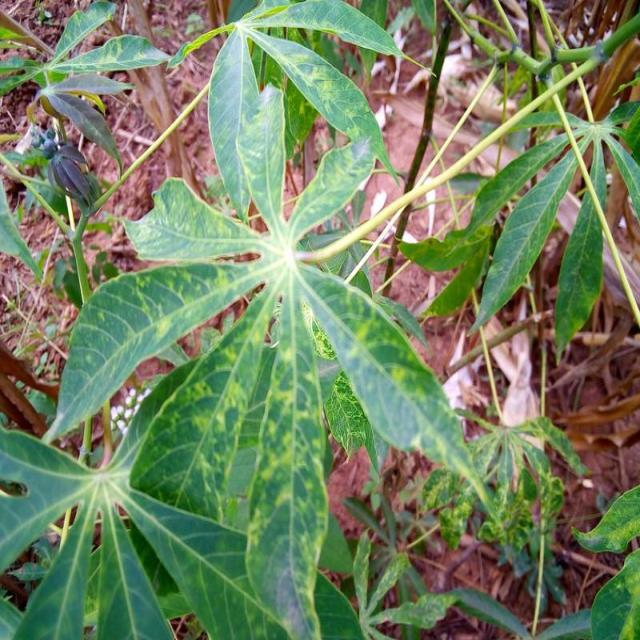cassava leaf: (43, 259, 265, 444)
